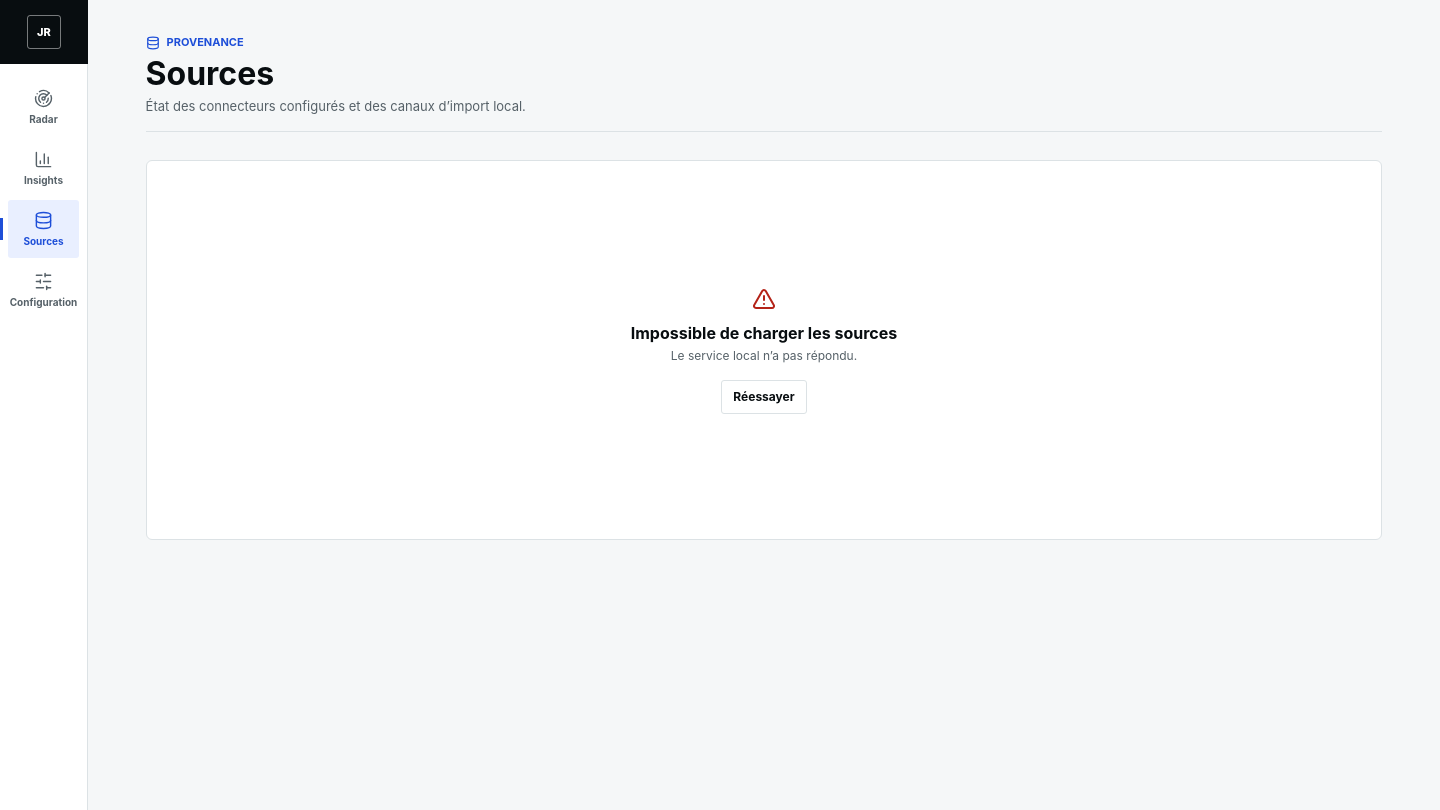
Test case: SourcesPage › rend les états de chargement, erreur récupérable et liste vide
The width and height of the screenshot is (1440, 810).
Expected: the message named "chargement des sources" is shown, [146, 160, 1382, 540]
Expected: the message shows "Impossible de charger", [631, 322, 897, 342]
Click the button "Réessayer".
click(764, 396)  # box [721, 380, 807, 414]
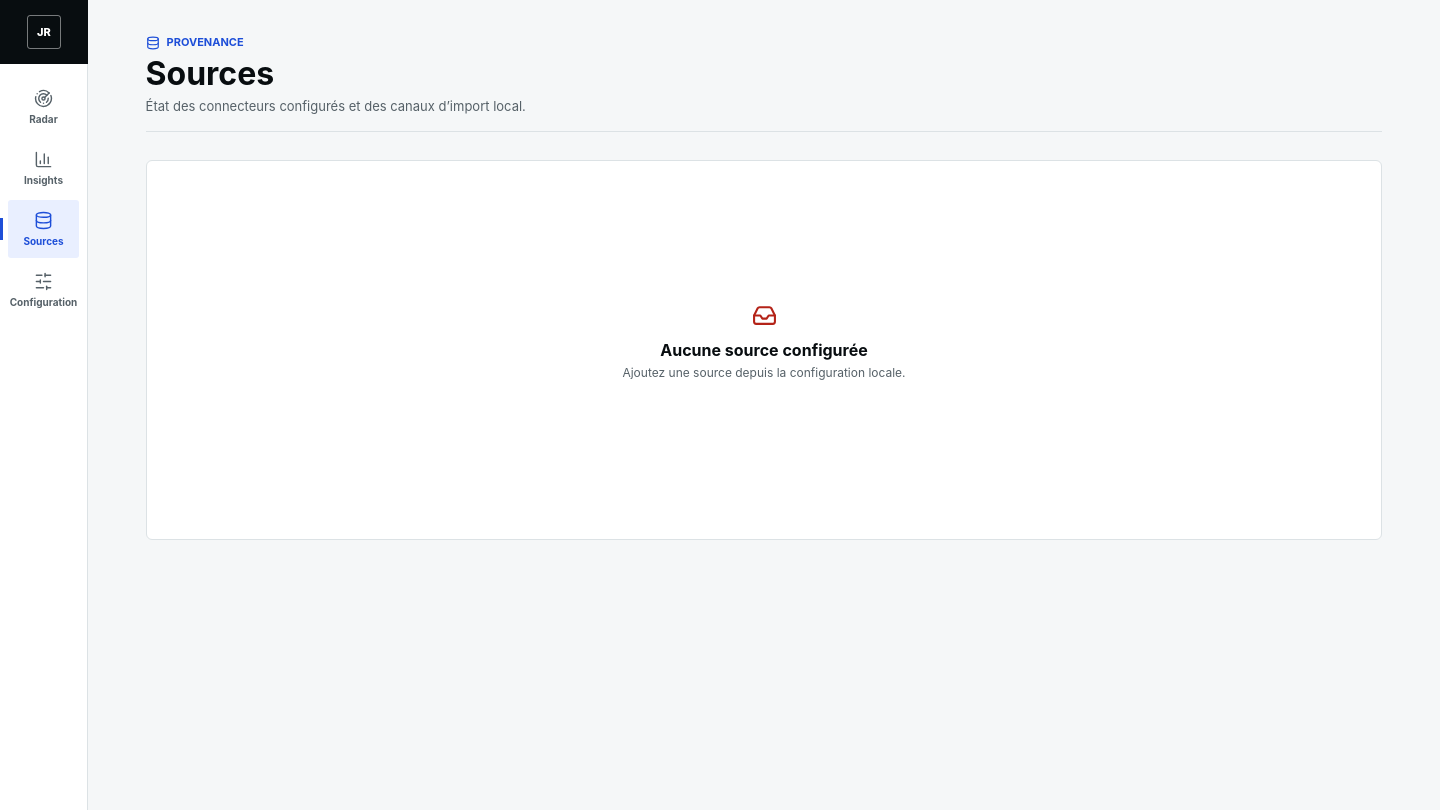
Expected: the message "Aucune source configurée Ajoutez une source depuis la configuration locale." is shown, [146, 160, 1382, 540]
